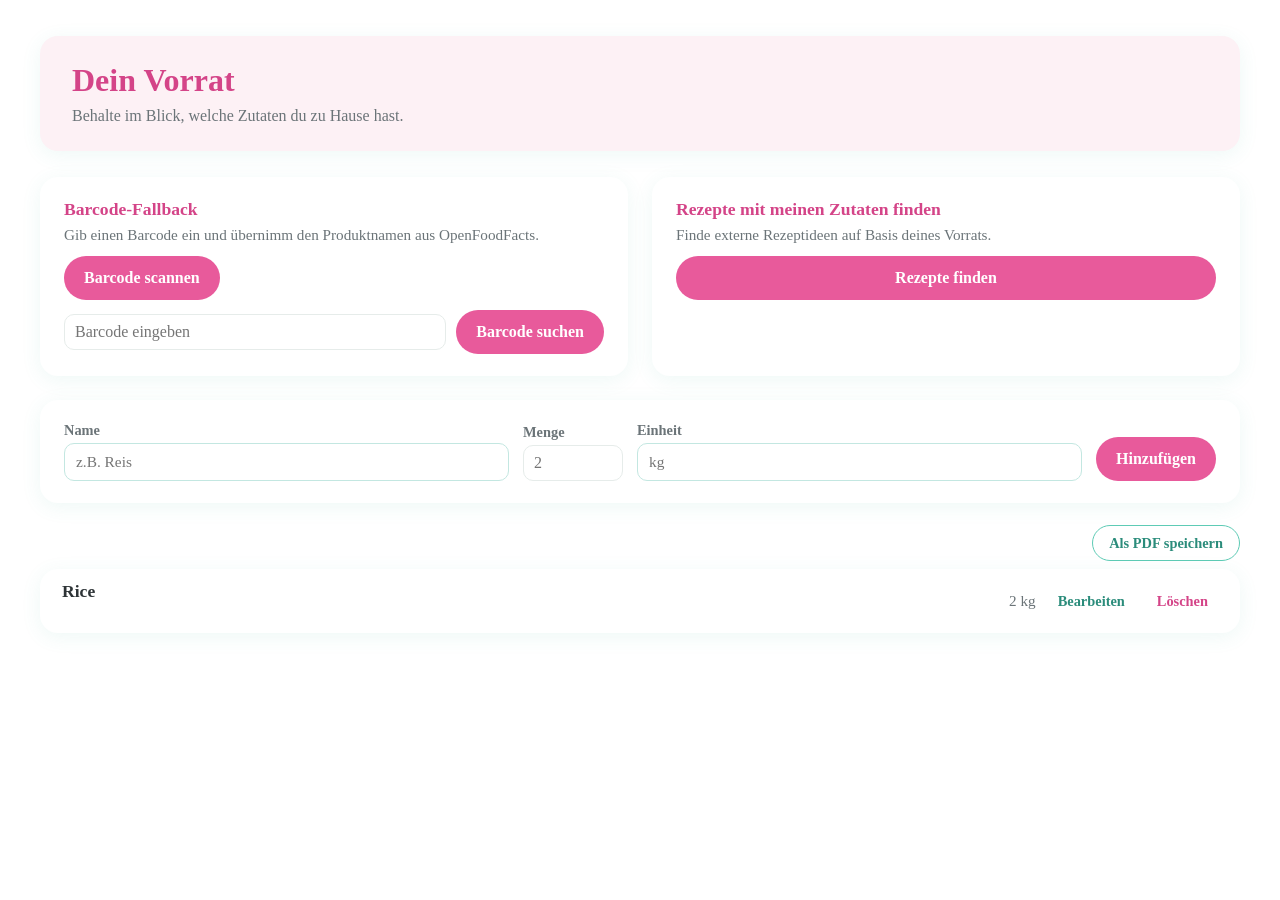
PantryView › updates a pantry item and closes edit form
Click the button with class "edit-btn" at (1091, 601), box [1048, 581, 1135, 621]
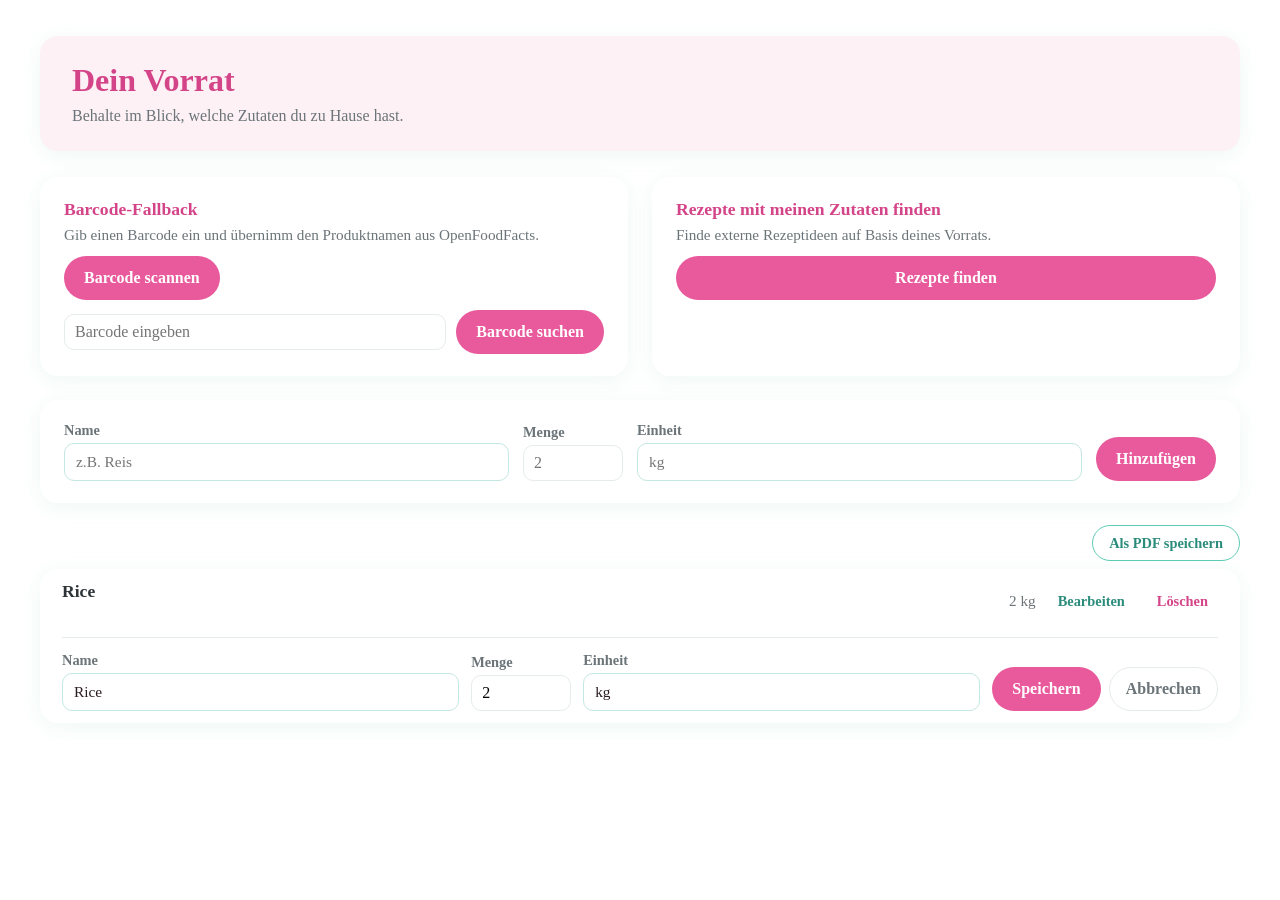
Replace the text in the 1st field with placeholder "z.B. Reis" with "Basmati Rice" at (261, 692), box [62, 673, 459, 711]
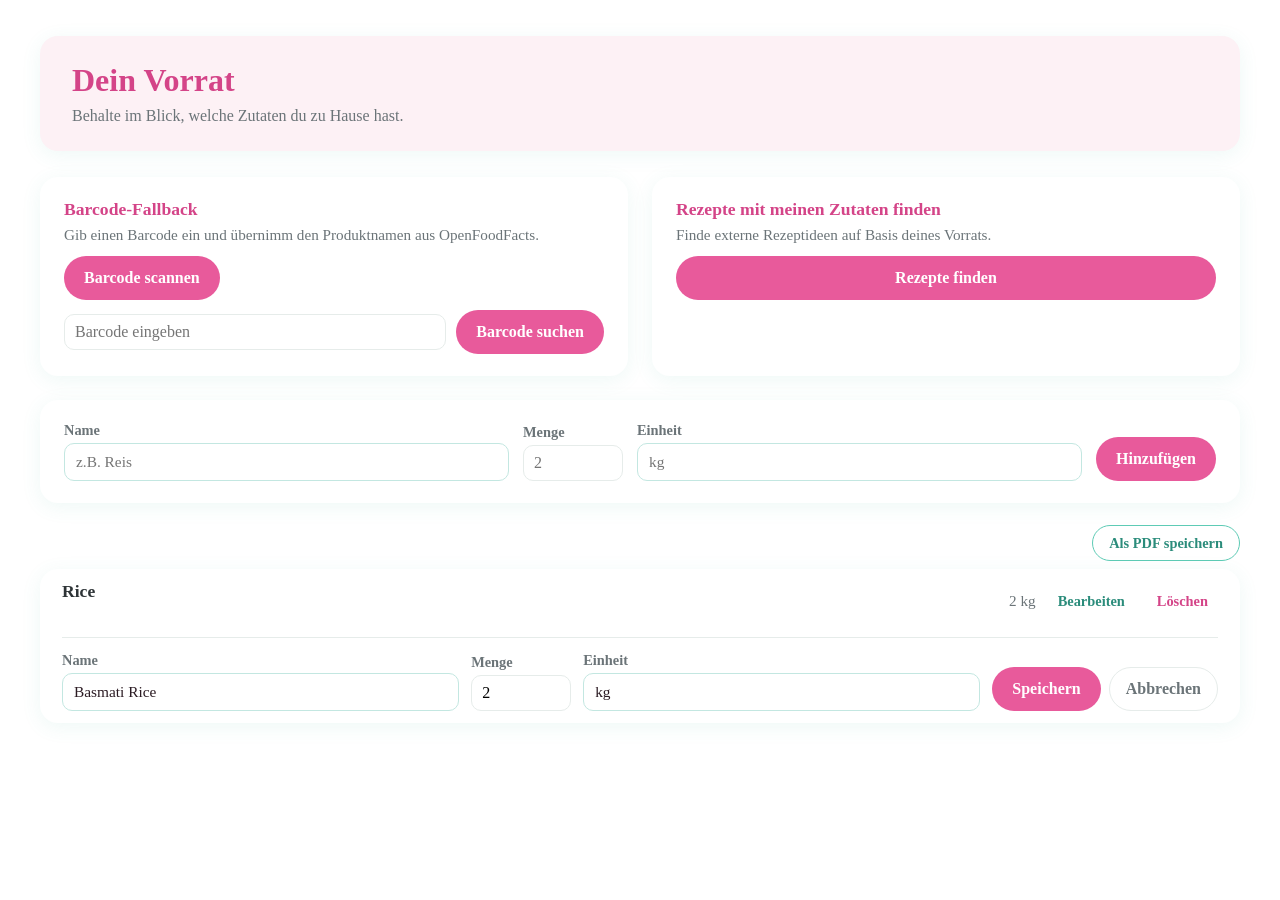
Type "1.5" into the number field with placeholder "2" at (521, 693), box [471, 675, 571, 711]
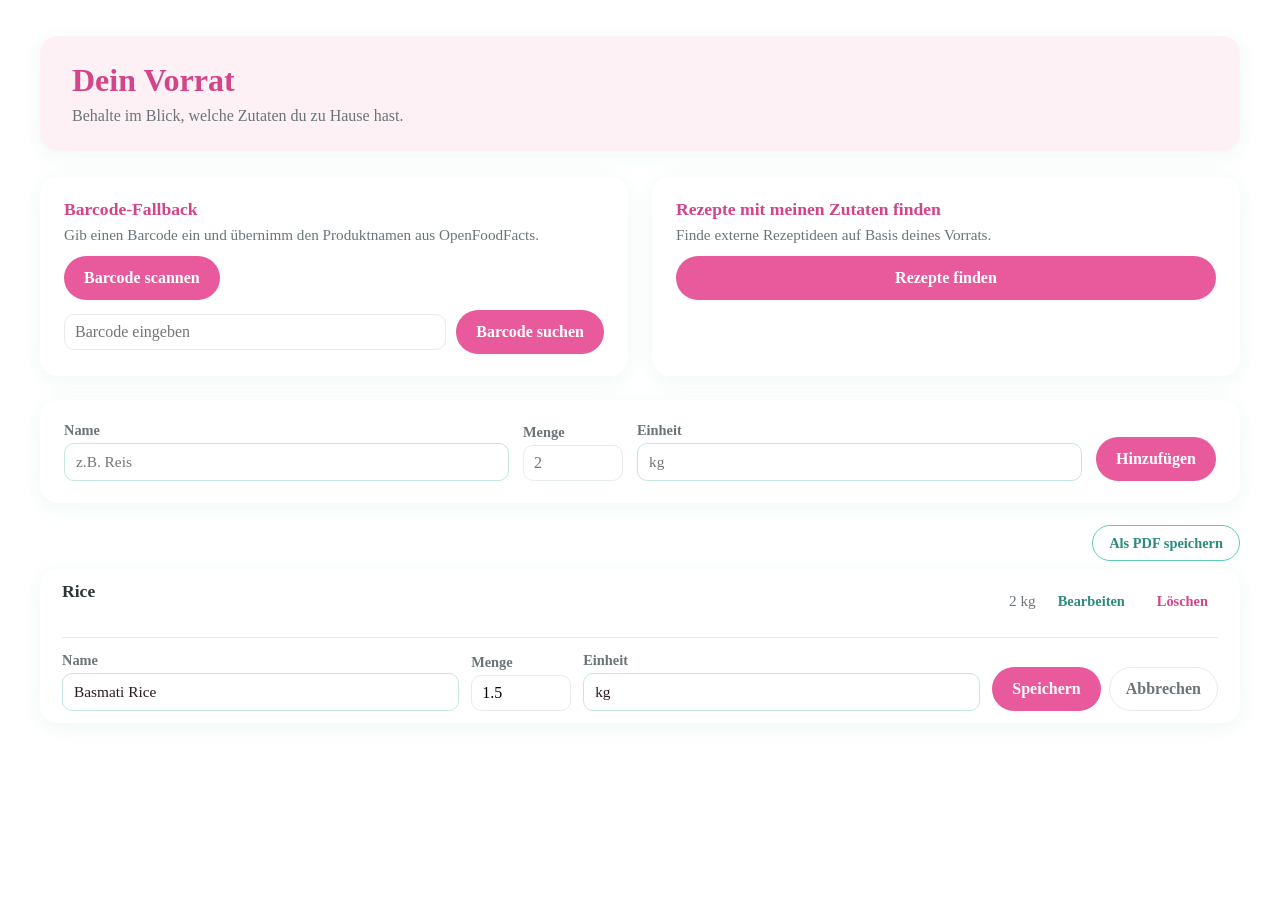
Submit the form with class "edit-form", box [62, 637, 1218, 711]
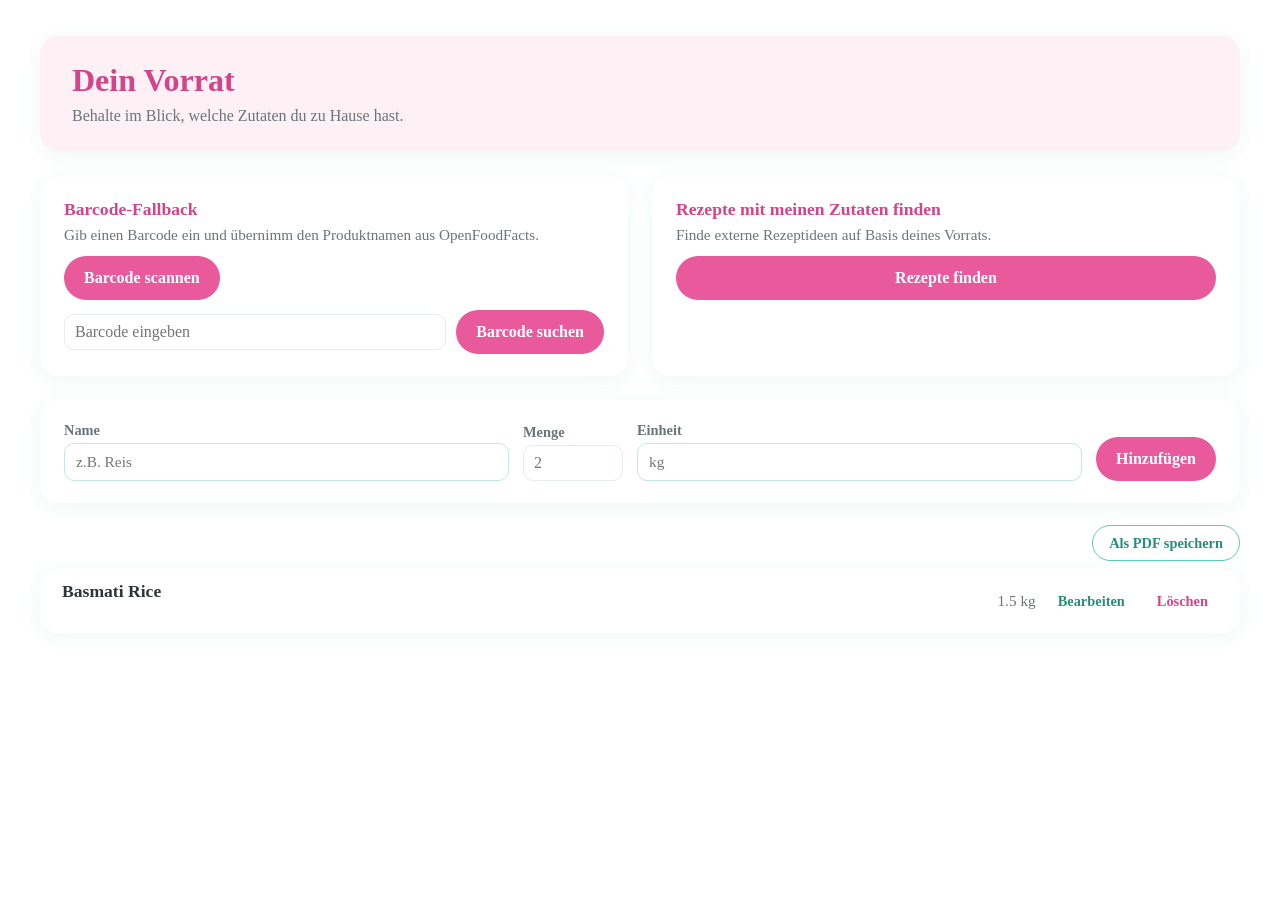
Expected: the text "Basmati Rice" is shown, [62, 581, 161, 601]
